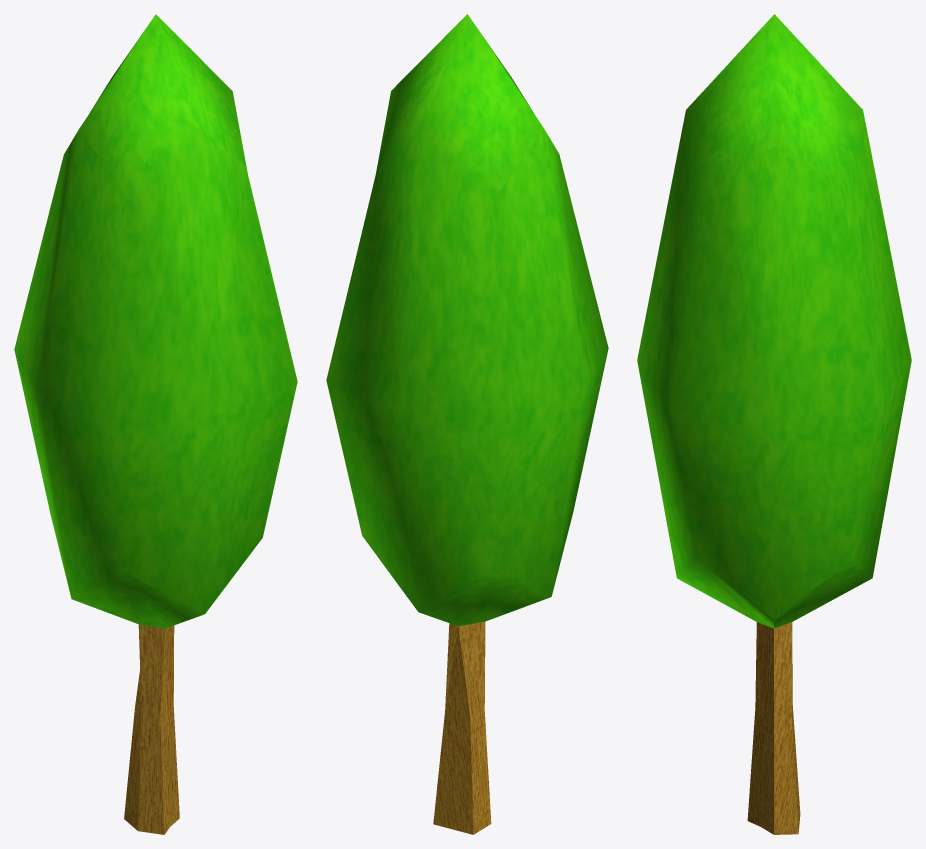
File: tree.fbx
The picture shows the model from 3 angles, left to right: view 1: azimuth 30°, elevation 25°; view 2: azimuth 150°, elevation 25°; view 3: azimuth 270°, elevation 25°; orthographic projection.
Parts seen in each view (by area): view 1: tree22; view 2: tree22; view 3: tree22.
Part boxes in pixels (<box>): tree22: <box>14,14,297,834</box>; tree22: <box>326,14,608,834</box>; tree22: <box>637,14,911,834</box>.
Bounding box in the file's own units: 6.4 × 20.81 × 6.4.
Materials: 1 (1 with a texture image).
